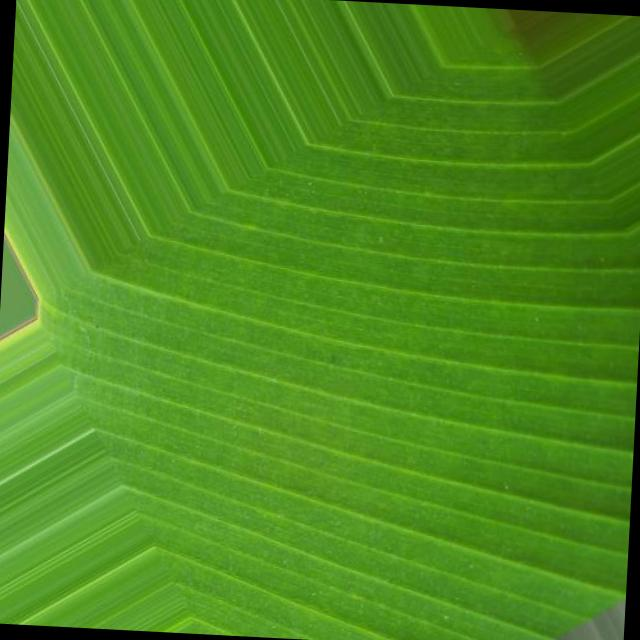Banana_Healthy: (150, 95, 560, 488)
